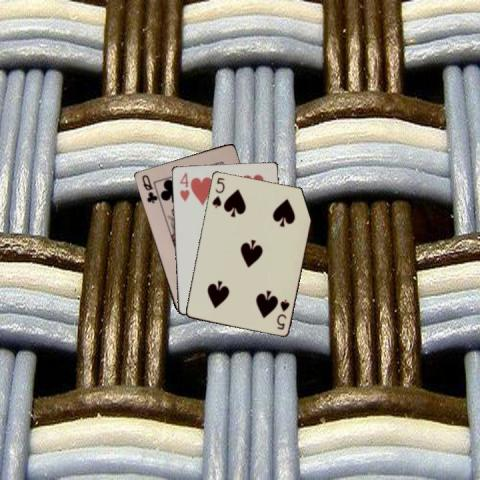4h: (177, 169, 189, 203)
5s: (273, 296, 291, 331), (209, 174, 226, 209)
Qc: (139, 171, 158, 205)
